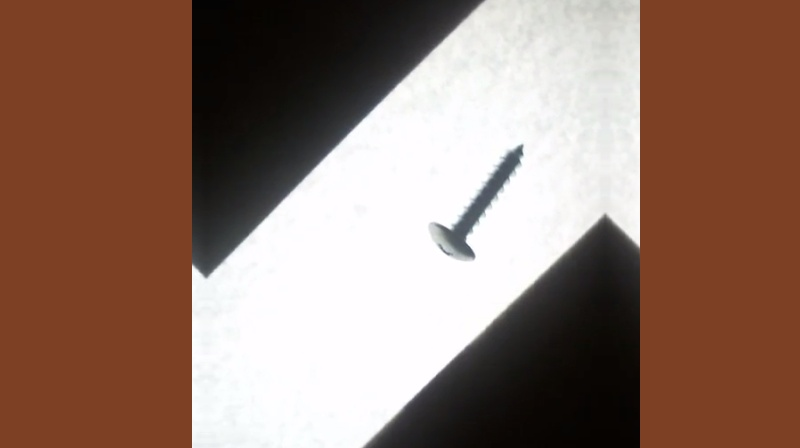S003: (424, 138, 525, 265)
